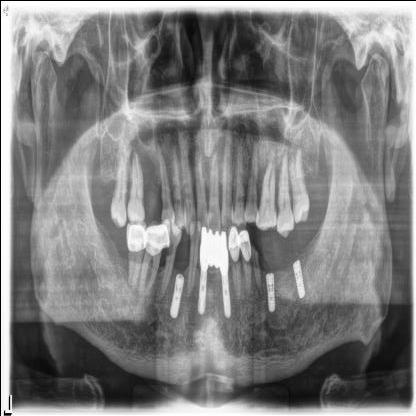ITI: (166, 267, 184, 322), (290, 257, 307, 303), (196, 268, 206, 316), (264, 268, 274, 312), (221, 272, 229, 316)
